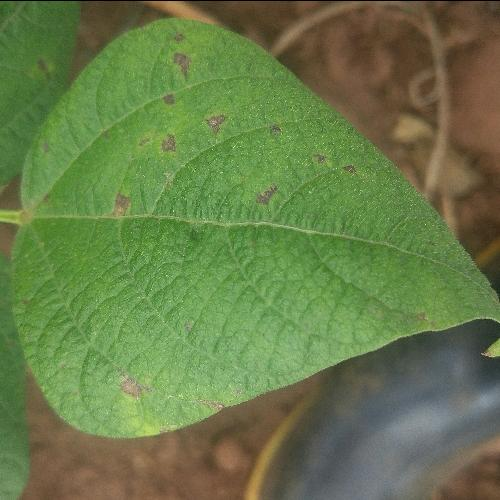embun tepung: (82, 0, 392, 362)
